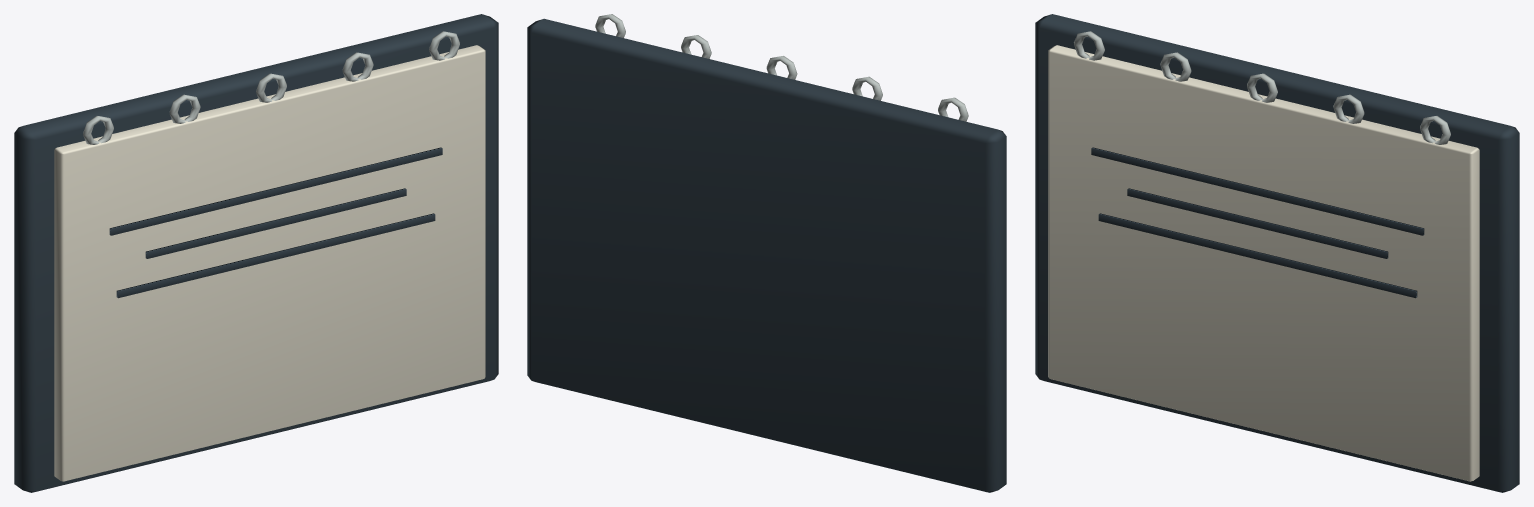
The model's file is P074_cue_cards_rebuilt.glb.
The picture shows the model from 3 angles, left to right: view 1: azimuth 30°, elevation 25°; view 2: azimuth 150°, elevation 25°; view 3: azimuth 330°, elevation 25°; orthographic projection.
Visible parts, largest first — view 1: white, shell, silver; view 2: shell, silver; view 3: white, shell, silver.
Part boxes in pixels (x1,y1,x2,y2): white: (54,45,485,481); shell: (14,14,498,492); silver: (83,31,459,144); shell: (527,18,1006,492); silver: (595,14,968,121); white: (1048,45,1479,481); shell: (1035,14,1519,492); silver: (1074,31,1450,144).
Bounding box in the file's own units: 0.35 × 0.261 × 0.037.
